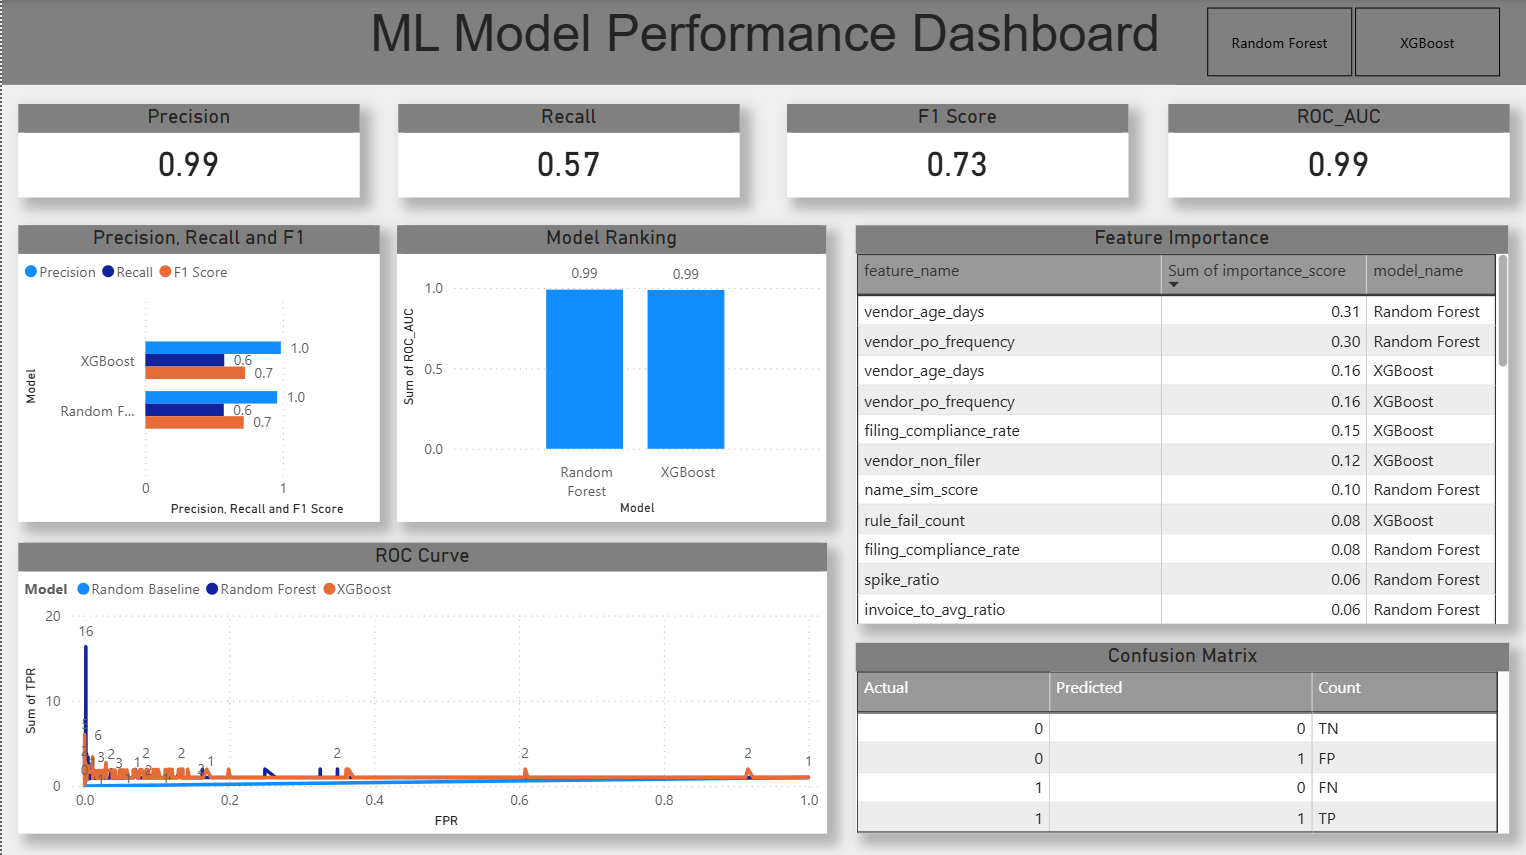

This screenshot's page, from the dashboard's own definition file:
{"tool":"powerbi","page":{"name":"ML Model Performance Dashboard","canvas":[1280,720],"ordinal":2},"visuals":[{"type":"textbox","box":[0,0,1280,72],"z":0},{"type":"card","title":"Precision","fields":{"Values":["Max(comparison_table.Precision)"]},"box":[14,88,286,78],"z":1000},{"type":"card","title":"Recall","fields":{"Values":["Max(comparison_table.Recall)"]},"box":[332,88,286,78],"z":2000},{"type":"card","title":"F1 Score","fields":{"Values":["Max(comparison_table.F1)"]},"box":[658,88,286,78],"z":3000},{"type":"card","title":"ROC_AUC","fields":{"Values":["Max(comparison_table.ROC_AUC)"]},"box":[978,88,286,78],"z":4000},{"type":"slicer","fields":{"Values":["comparison_table.Model"]},"box":[984,0,296,72],"z":5000},{"type":"clusteredBarChart","title":"Precision, Recall and F1","fields":{"Category":["comparison_table.Model"],"Y":["Sum(comparison_table.Precision)","Sum(comparison_table.Recall)","Sum(comparison_table.F1)"]},"box":[14,189.5,303.5,248.8],"z":6000},{"type":"lineChart","title":"ROC Curve","fields":{"Category":["roc_curve_comparison.FPR"],"Y":["Sum(roc_curve_comparison.TPR)"],"Series":["roc_curve_comparison.Model"]},"box":[14,456,678,244],"z":7000},{"type":"columnChart","title":"Model Ranking","fields":{"Category":["comparison_table.Model"],"Y":["Sum(comparison_table.ROC_AUC)"]},"box":[331.7,189.7,359.8,248.5],"z":8000},{"type":"tableEx","title":"Confusion Matrix","fields":{"Values":["Sum(ConfusionMatrix.Column1)","Sum(ConfusionMatrix.Column2)","ConfusionMatrix.Column3"]},"box":[716,539.8,548.3,160.3],"z":9000},{"type":"tableEx","title":"Feature Importance","fields":{"Values":["feature_importance.feature_name","Sum(feature_importance.importance_score)","feature_importance.model_name"]},"box":[716,189.7,547.1,334.1],"z":10000}]}

Visuals, with their boxes in screenshot pixels (x1, y1, x2, y2), scaled from the page's 1280x720 canvas onto the 1526x855 screenshot:
textbox: 0:0:1525:86
"Precision" card: 17:104:358:197
"Recall" card: 396:104:737:197
"F1 Score" card: 784:104:1125:197
"ROC_AUC" card: 1166:104:1507:197
slicer - comparison_table.Model: 1173:0:1525:86
"Precision, Recall and F1" clusteredBarChart: 17:225:379:520
"ROC Curve" lineChart: 17:542:825:831
"Model Ranking" columnChart: 395:225:824:520
"Confusion Matrix" tableEx: 854:641:1507:831
"Feature Importance" tableEx: 854:225:1506:622
